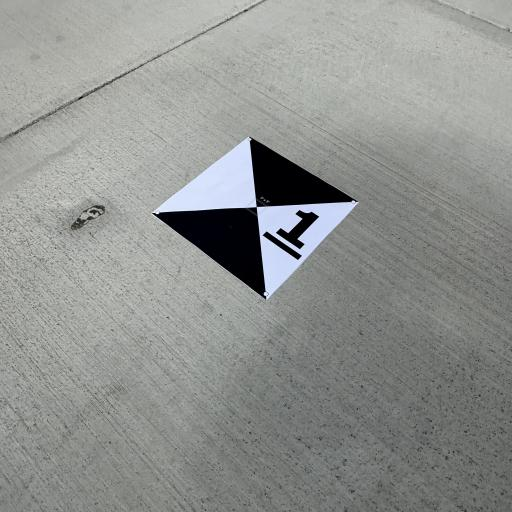target1: (146, 131, 368, 308)
